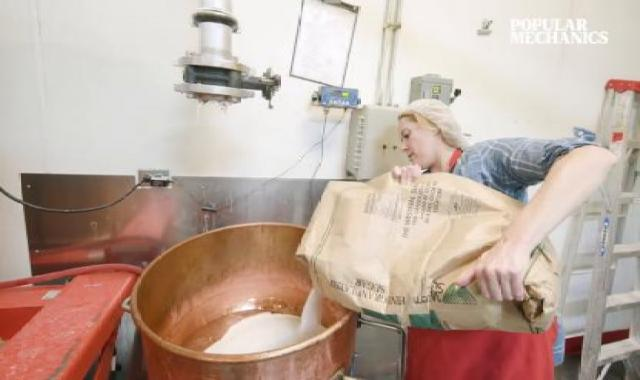hairnet: (399, 96, 476, 155)
